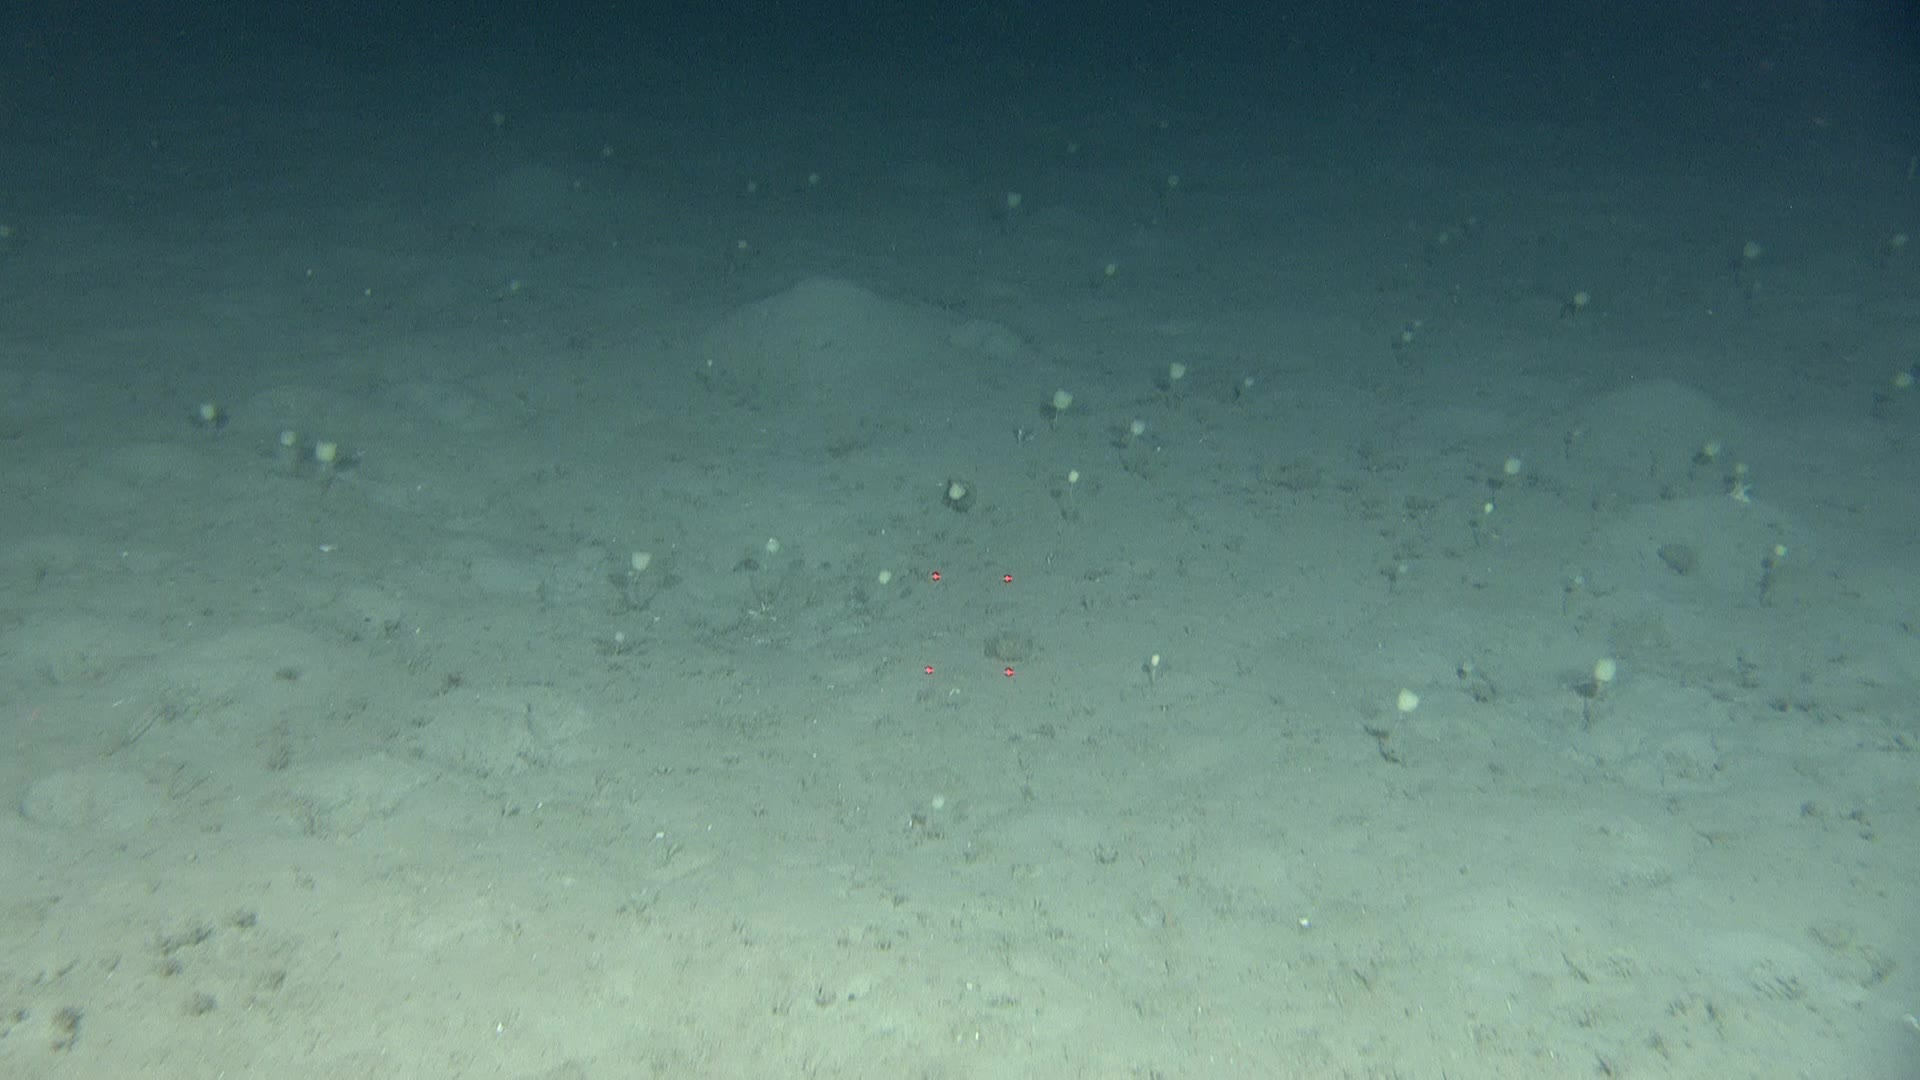S.borealis: (1594, 643, 1632, 718), (307, 421, 346, 486), (614, 540, 653, 605), (1382, 680, 1421, 745), (749, 529, 787, 594), (1459, 491, 1498, 545), (1766, 535, 1805, 589), (1555, 567, 1594, 621), (192, 394, 230, 448), (864, 556, 902, 610), (1037, 383, 1075, 437), (1114, 405, 1152, 459), (922, 783, 960, 837), (1498, 448, 1536, 502), (1152, 351, 1190, 405), (1882, 373, 1920, 427), (1728, 232, 1766, 286), (595, 626, 634, 670), (1555, 281, 1594, 324), (998, 184, 1037, 227), (787, 162, 826, 205), (269, 421, 307, 464), (941, 475, 979, 518), (1229, 367, 1267, 410), (1690, 432, 1728, 475), (1728, 454, 1766, 497), (1882, 227, 1920, 270), (1152, 162, 1190, 205), (1056, 130, 1094, 173), (730, 238, 768, 281), (499, 275, 538, 308), (730, 178, 768, 211), (480, 113, 518, 146), (1555, 427, 1594, 459), (691, 351, 730, 383), (1066, 459, 1085, 513), (1142, 648, 1162, 691), (1104, 248, 1123, 292), (1430, 221, 1450, 254), (566, 167, 586, 200), (1392, 556, 1411, 589), (1392, 329, 1411, 362), (1162, 113, 1181, 146), (355, 286, 374, 319), (1411, 308, 1430, 340), (1469, 211, 1488, 243), (605, 135, 624, 167), (298, 265, 317, 297)
